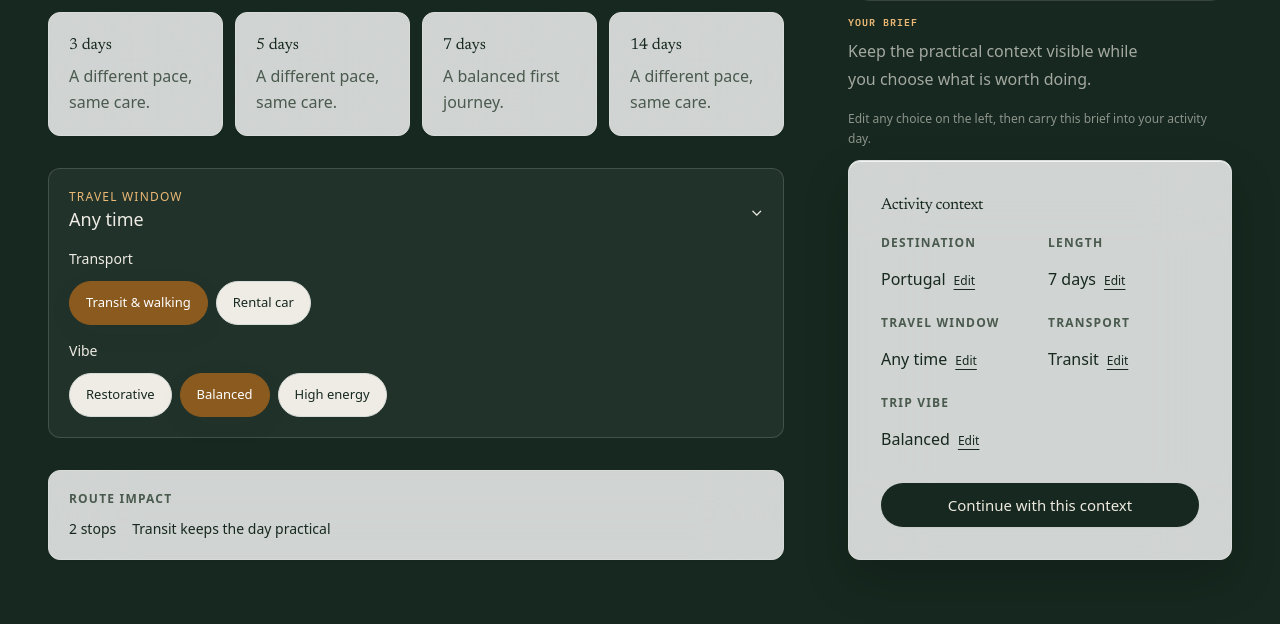
PlannerSingleScreen › returns the continuation to an actionable state after navigation is accepted
The image size is (1280, 624).
(page scrolled)
Click the button "Continue with this context".
click(1040, 505)  # box [881,483,1199,527]
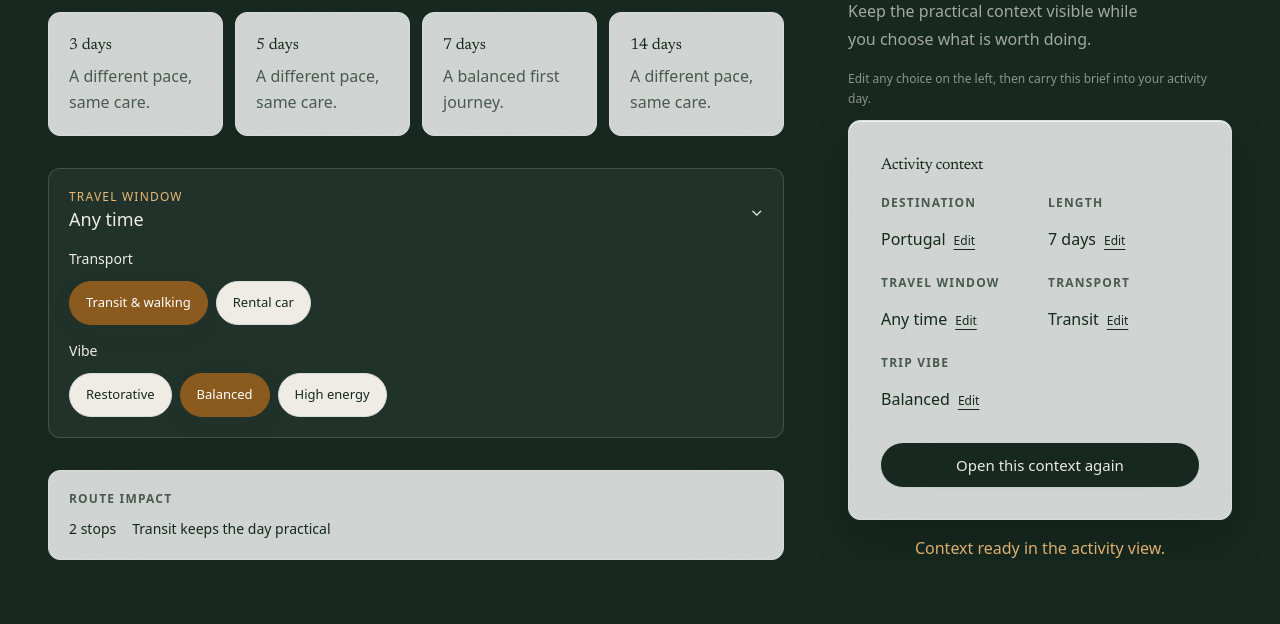
Check: the button "Open this context again" is enabled, box [881,443,1199,487]
Check: the message reads "Context ready in the activity view.", box [915,537,1165,559]
